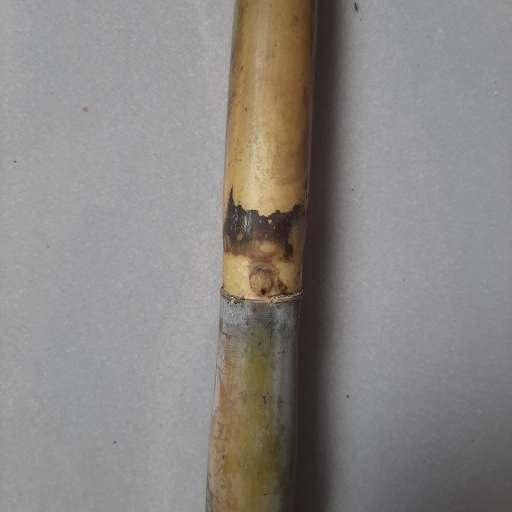Bud: (249, 267, 274, 298)
